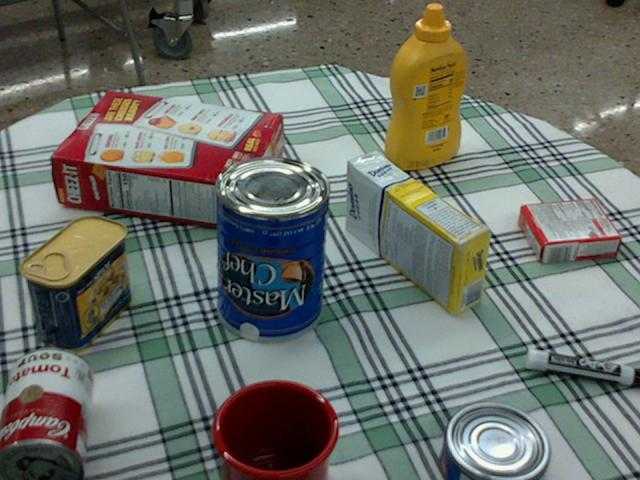cracker_box: (51, 91, 279, 228)
gelatin_box: (517, 199, 619, 263)
large_marker: (526, 348, 639, 386)
master_chef_can: (213, 155, 328, 341)
mug: (206, 379, 335, 479)
mustard_bottle: (383, 3, 466, 168)
potted_meat_can: (21, 215, 129, 351)
sugar_box: (344, 152, 490, 315)
tomato_soup_can: (0, 347, 93, 479)
tuna_fish_can: (439, 404, 550, 479)
